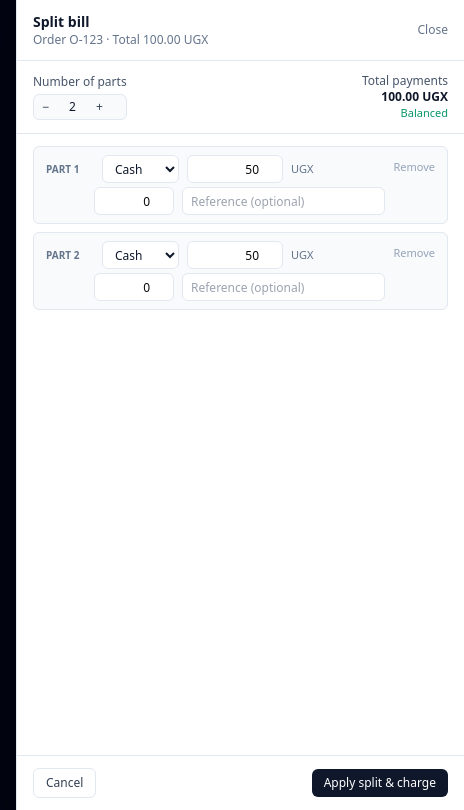
PosSplitBillDrawer › shows balance delta when payments do not match total
Step 1. Replace the text in the 1st number field with "40" → (235, 169), box [187, 155, 283, 183]
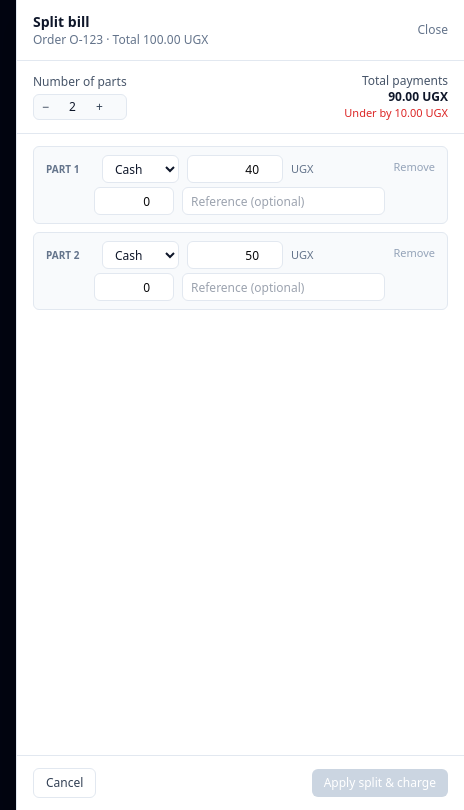
Check: the text "Under by 10.00 UGX" is shown, box [344, 105, 448, 121]
